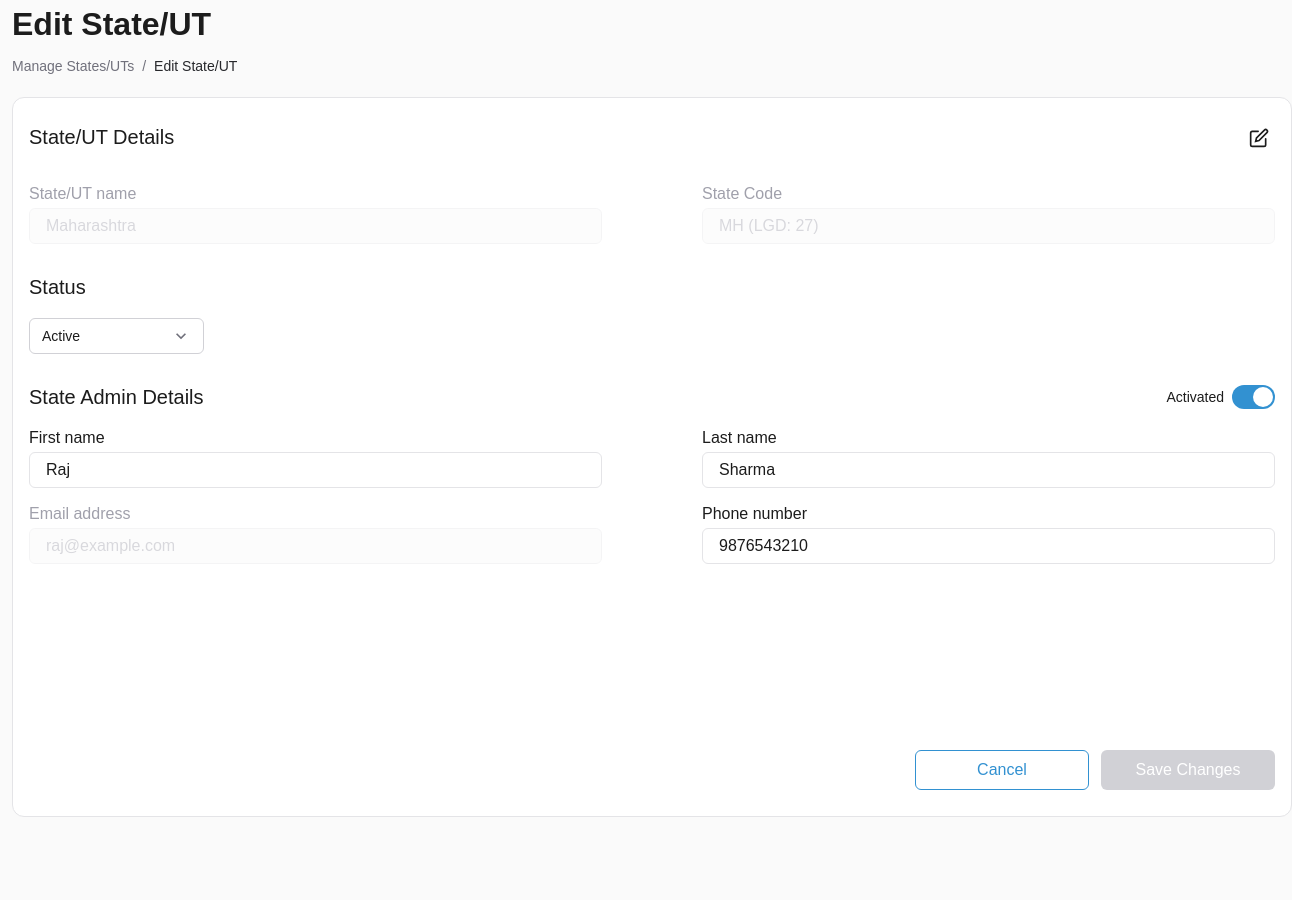
Scenario: EditStateUTPage › Save button is enabled after changing admin firstName
Replace the text in the field showing "Raj" with "Rahul": (316, 470) [29,452,602,488]
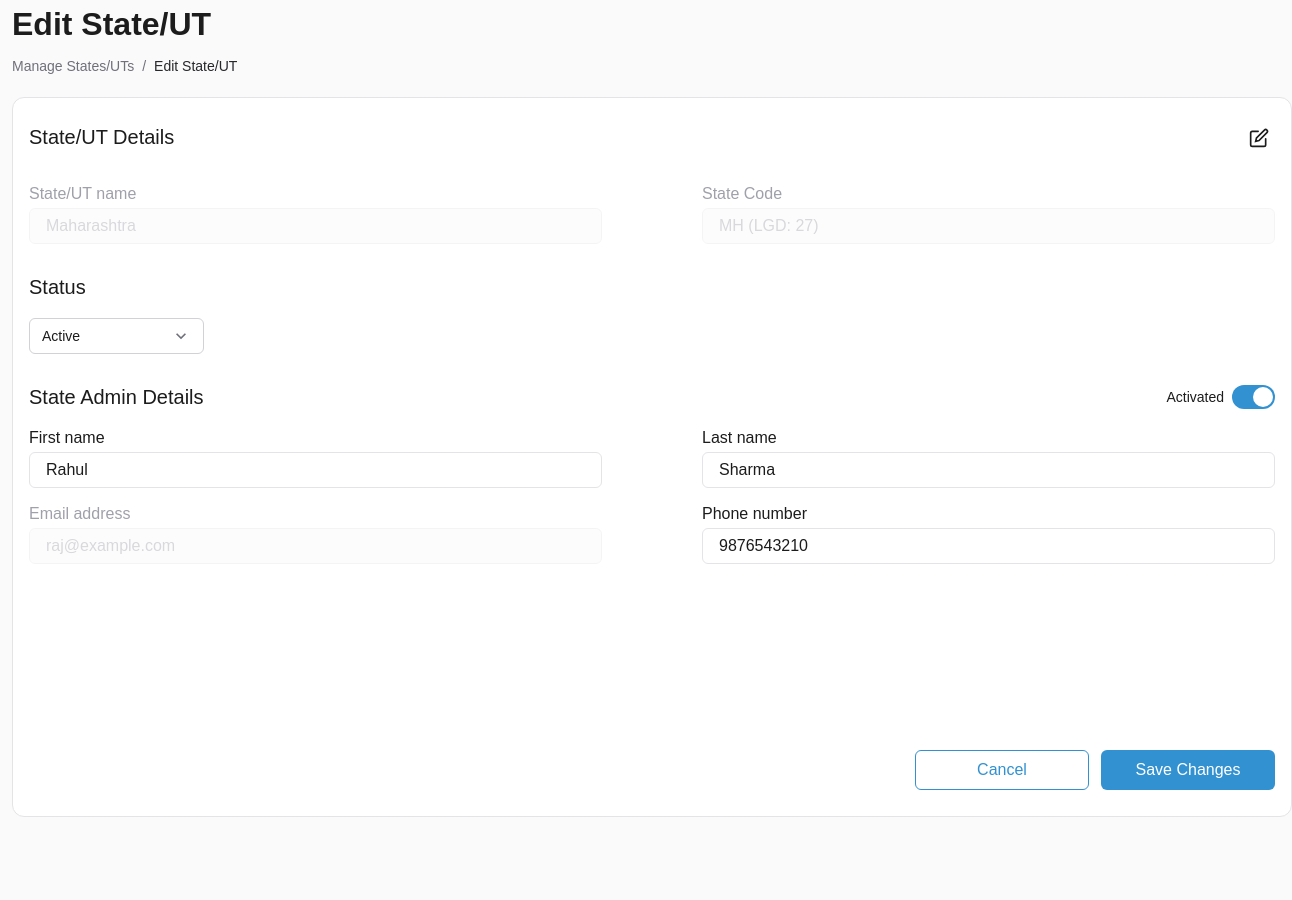
Result: the button "Save Changes" is enabled at [1101,750,1275,790]
